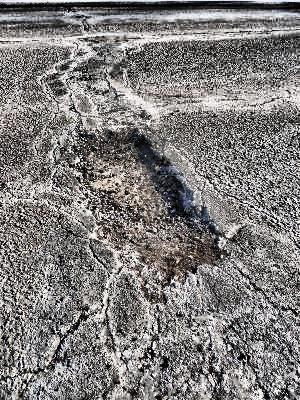pothole: (72, 121, 229, 286)
